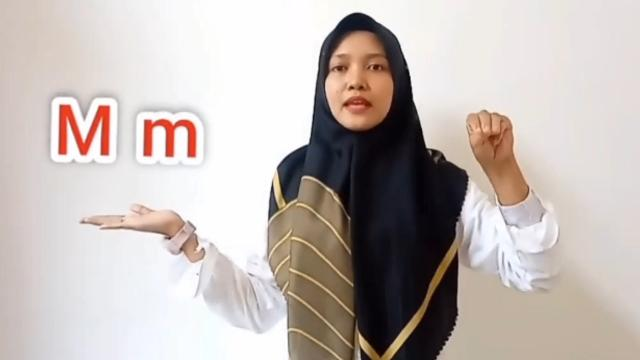M: (464, 109, 516, 163)
